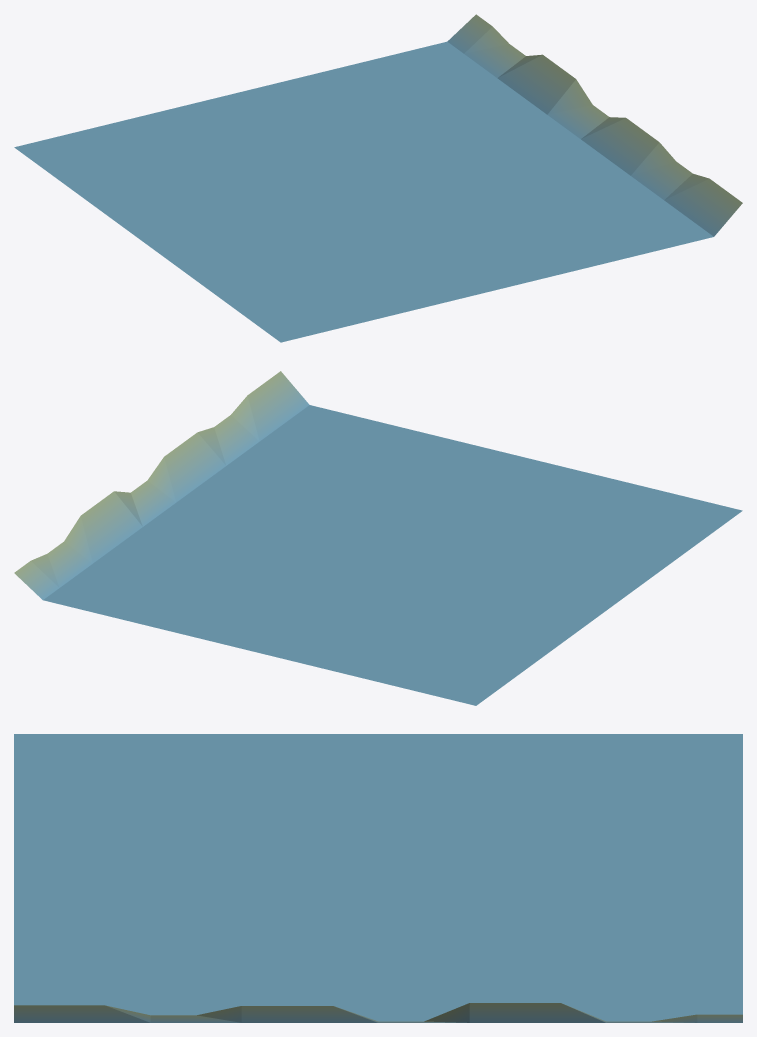
The picture shows the model from 3 angles, top to bottom: view 1: azimuth 30°, elevation 25°; view 2: azimuth 150°, elevation 25°; view 3: azimuth 270°, elevation 25°; orthographic projection. The views are drawn at different scales.
Bounding box in the file's own units: 32 × 1.9 × 32.
